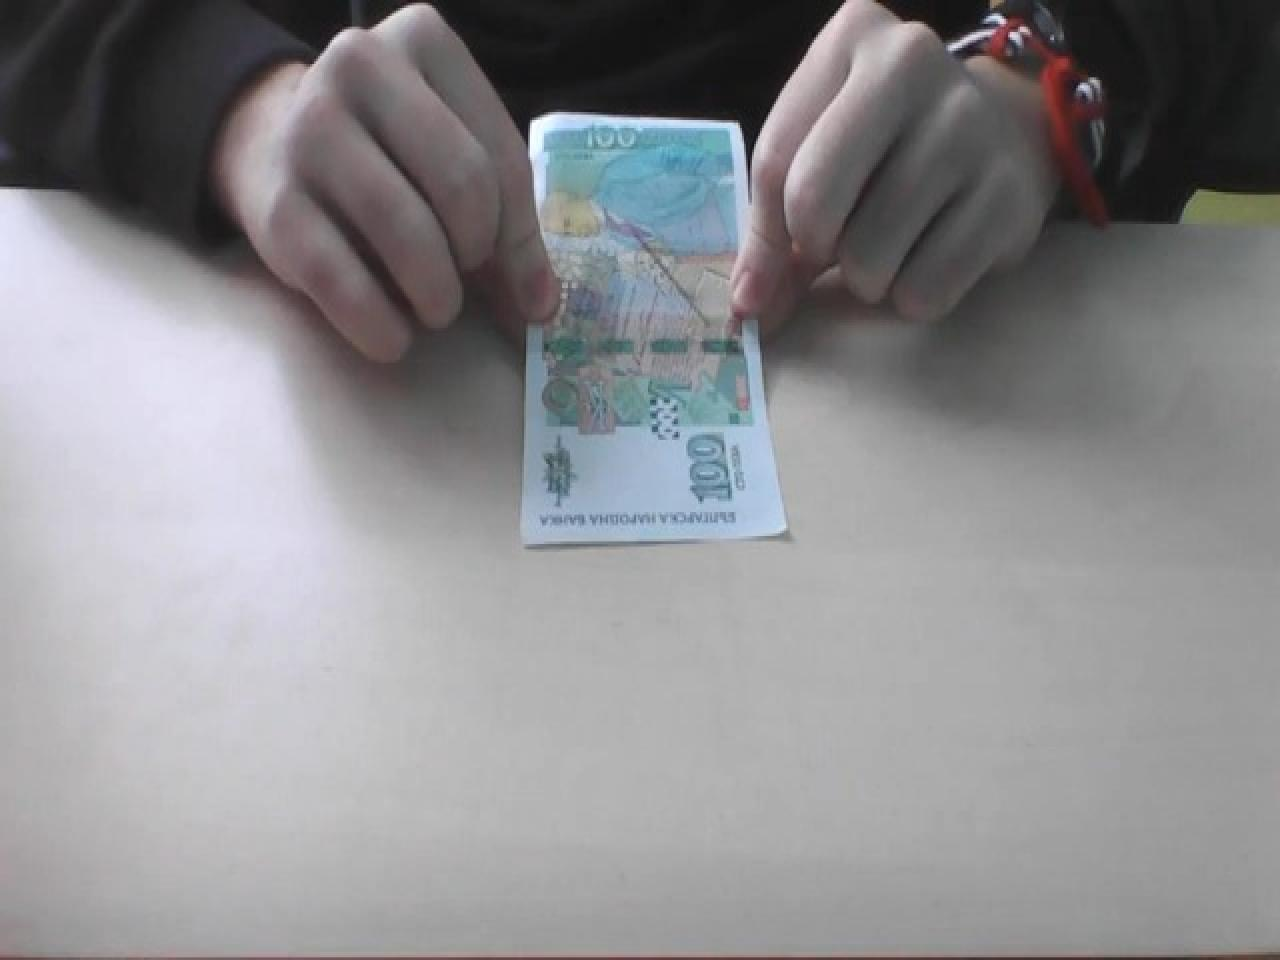100leva: (520, 115, 792, 555)
